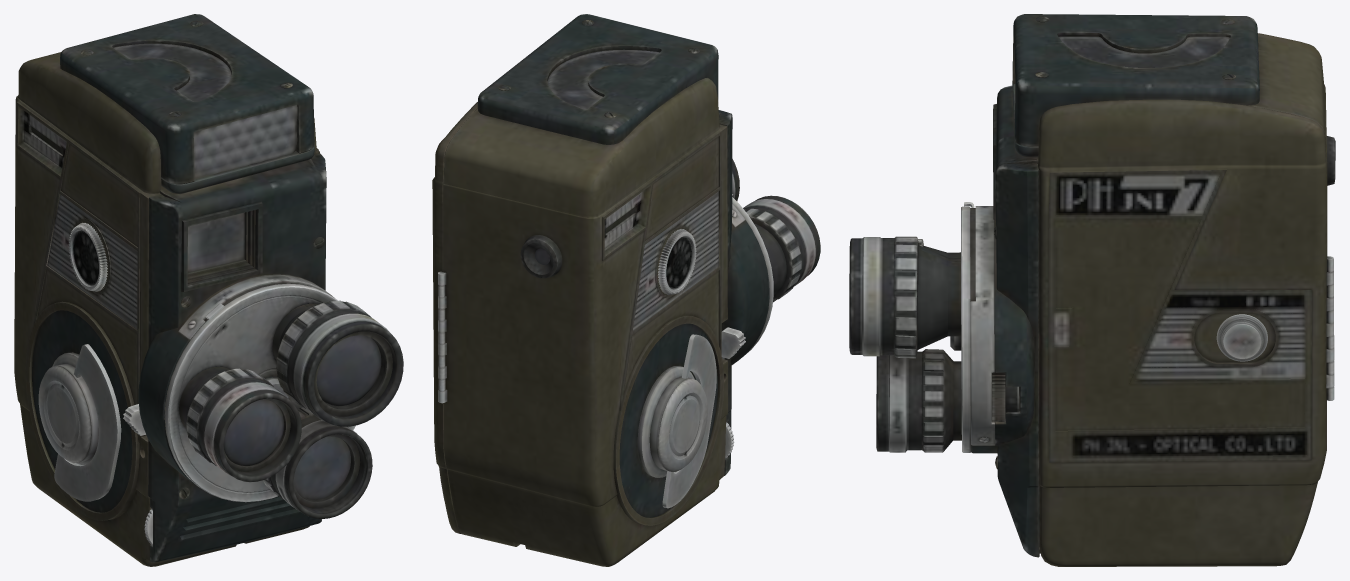
Rendered from vintage_video_camera.glb.
3 renders of one model, left to right at view 1: azimuth 30°, elevation 25°; view 2: azimuth 150°, elevation 25°; view 3: azimuth 270°, elevation 25°, orthographic. The views are drawn at different scales.
Visible parts, largest first — view 1: vintage_video_camera; view 2: vintage_video_camera; view 3: vintage_video_camera.
Part boxes in pixels (left/top/right/bottom): vintage_video_camera: left=14, top=14, right=403, bottom=566; vintage_video_camera: left=432, top=14, right=820, bottom=566; vintage_video_camera: left=849, top=14, right=1335, bottom=566.
Bounding box in the file's own units: 0.0712 × 0.145 × 0.1326.
2 materials, 2 textured.
